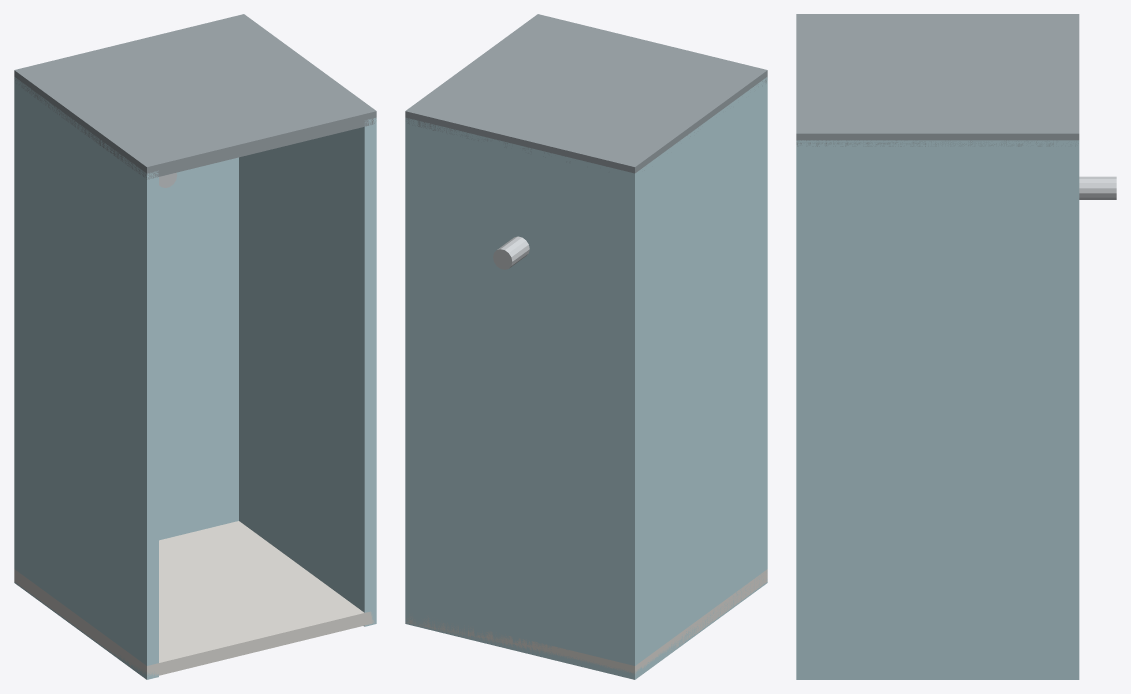
The model's file is shower_basic.glb.
3 renders of one model, left to right at view 1: azimuth 30°, elevation 25°; view 2: azimuth 150°, elevation 25°; view 3: azimuth 270°, elevation 25°, orthographic. The views are drawn at different scales.
Visible parts, largest first — view 1: p001, p002, p004, p003, p000; view 2: p003, p001, p004, p002, p000, p005; view 3: p002, p004, p003, p005.
Boxes of the visible parts, bbox=[...] form: p001: bbox=[14, 77, 158, 679]; p002: bbox=[239, 117, 376, 626]; p004: bbox=[14, 14, 376, 179]; p003: bbox=[14, 78, 238, 587]; p000: bbox=[14, 521, 374, 676]; p003: bbox=[405, 118, 641, 679]; p001: bbox=[623, 77, 767, 679]; p004: bbox=[405, 14, 767, 173]; p002: bbox=[405, 117, 417, 625]; p000: bbox=[405, 569, 767, 674]; p005: bbox=[493, 236, 529, 269]; p002: bbox=[796, 140, 1079, 679]; p004: bbox=[796, 14, 1079, 146]; p003: bbox=[1064, 140, 1079, 679]; p005: bbox=[1079, 176, 1116, 199].
Bounding box in the file's own units: 0.95 × 2.03 × 1.08.
